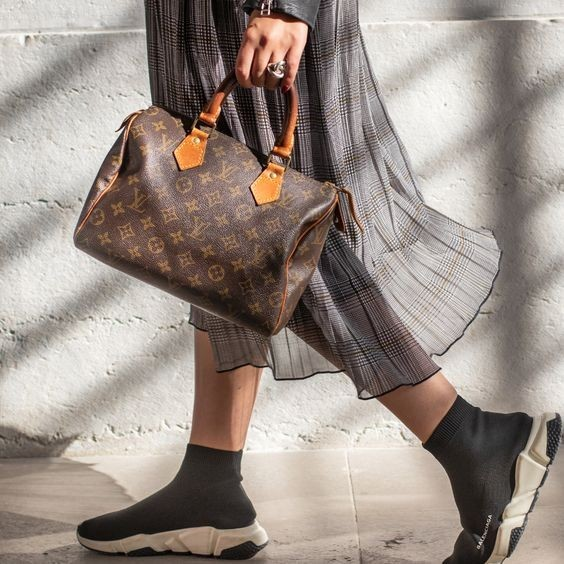bag: (64, 71, 365, 333)
